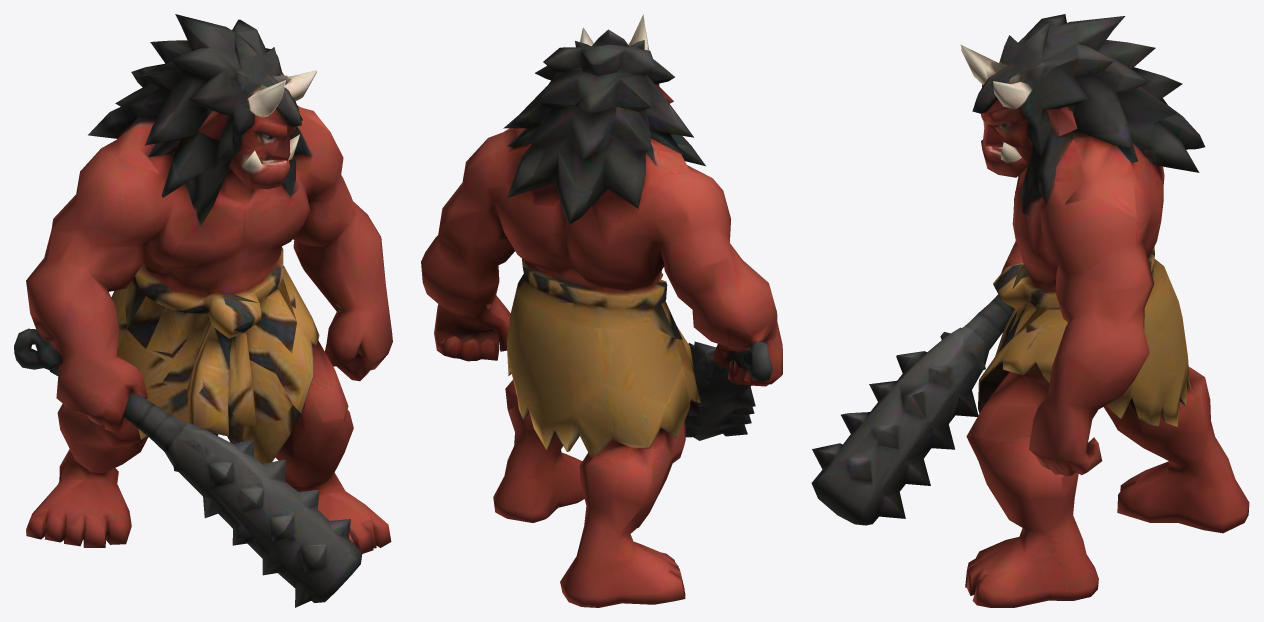
File: oni.glb
3 views of the same model, side by side, from view 1: azimuth 30°, elevation 25°; view 2: azimuth 150°, elevation 25°; view 3: azimuth 270°, elevation 25° (orthographic). The views are drawn at different scales.
Parts seen in each view (by area): view 1: tripo_node_abede9e0-d0ff-46e3-9650-19136cfab98d; view 2: tripo_node_abede9e0-d0ff-46e3-9650-19136cfab98d; view 3: tripo_node_abede9e0-d0ff-46e3-9650-19136cfab98d.
Boxes of the visible parts, x1,y1,x2,y2 form: tripo_node_abede9e0-d0ff-46e3-9650-19136cfab98d: [14, 14, 392, 607]; tripo_node_abede9e0-d0ff-46e3-9650-19136cfab98d: [421, 14, 782, 607]; tripo_node_abede9e0-d0ff-46e3-9650-19136cfab98d: [811, 14, 1249, 607].
Size of the model in its own units: 0.7196 by 0.9801 by 0.7351.
Materials: 1 (1 with a texture image).
